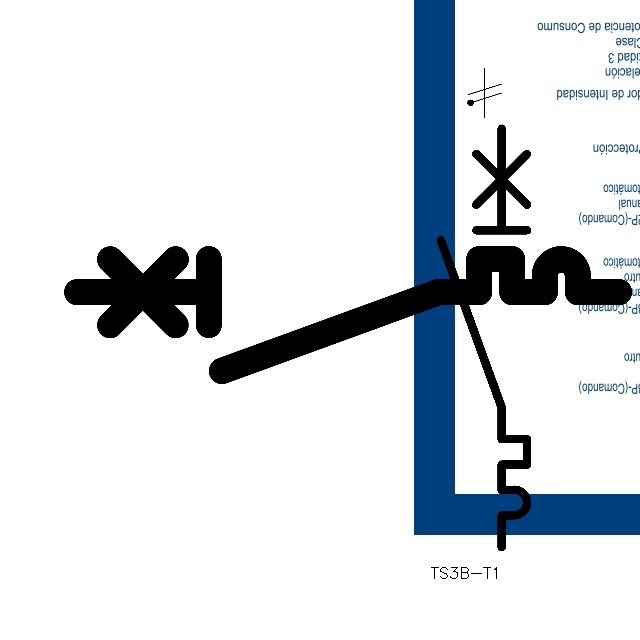interruptor_termomagnetico: (63, 245, 633, 384), (430, 117, 538, 558)
